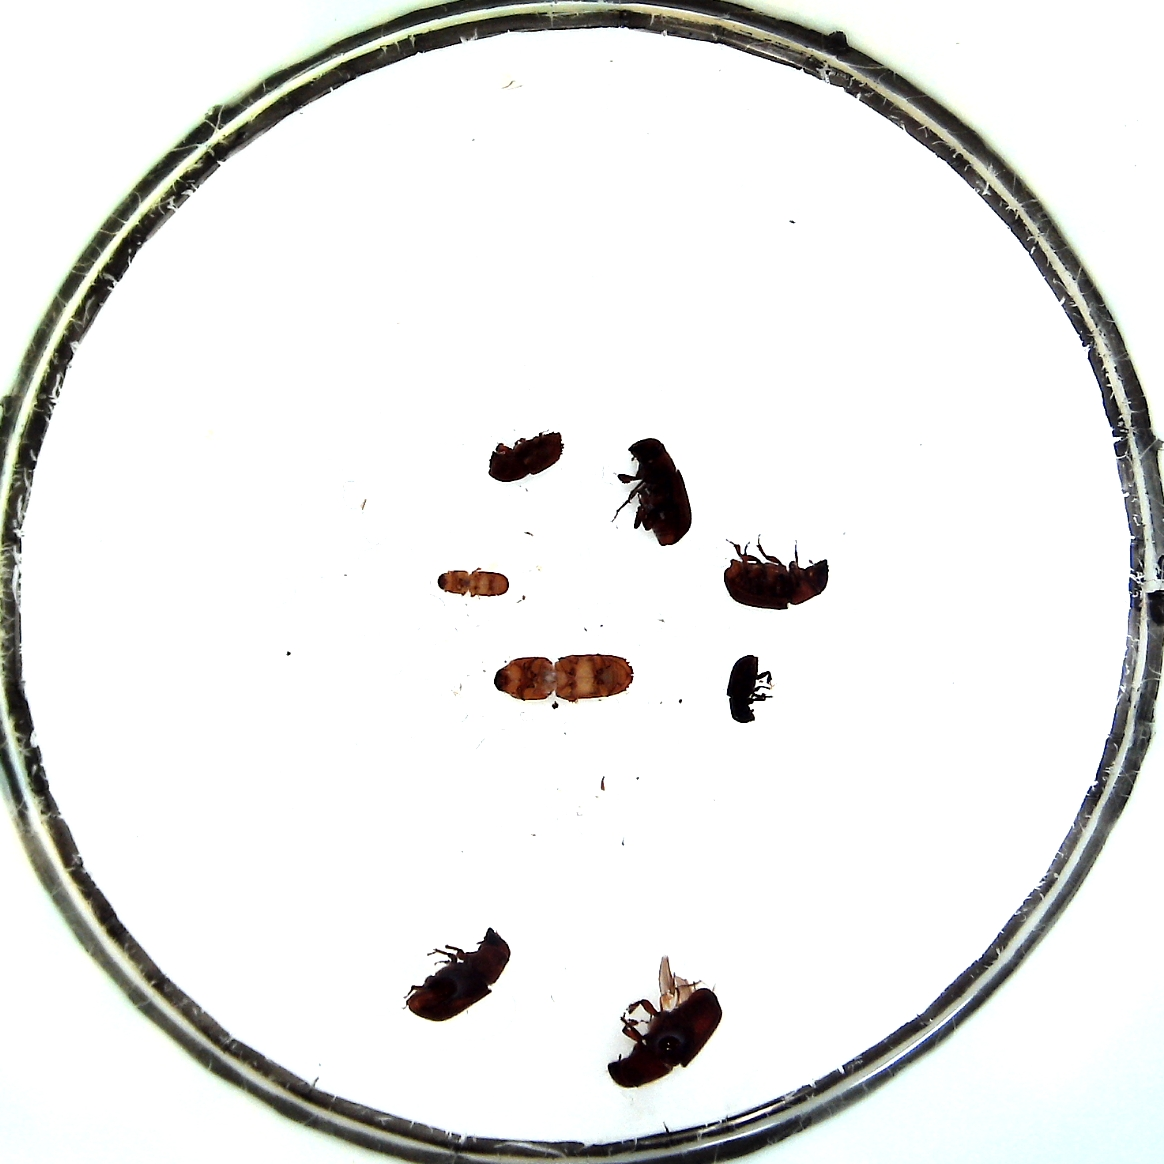Boerner: (494, 653, 637, 704)
Leconte: (607, 986, 724, 1089), (404, 925, 512, 1022), (617, 436, 694, 545), (722, 543, 830, 610)
Linnaeus: (483, 430, 566, 482)
acuminatus: (432, 566, 511, 602)
armandi: (724, 650, 773, 722)
